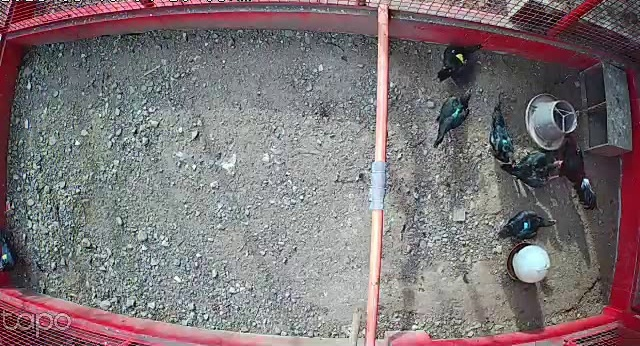Chicken: (497, 140, 568, 191), (432, 86, 474, 151), (497, 206, 556, 242), (488, 100, 518, 165), (437, 38, 483, 80)
Rooster: (548, 134, 597, 212)
Saddle_Color_Blue: (522, 221, 528, 230)
Saddle_Color_Yellow: (452, 49, 467, 64)
